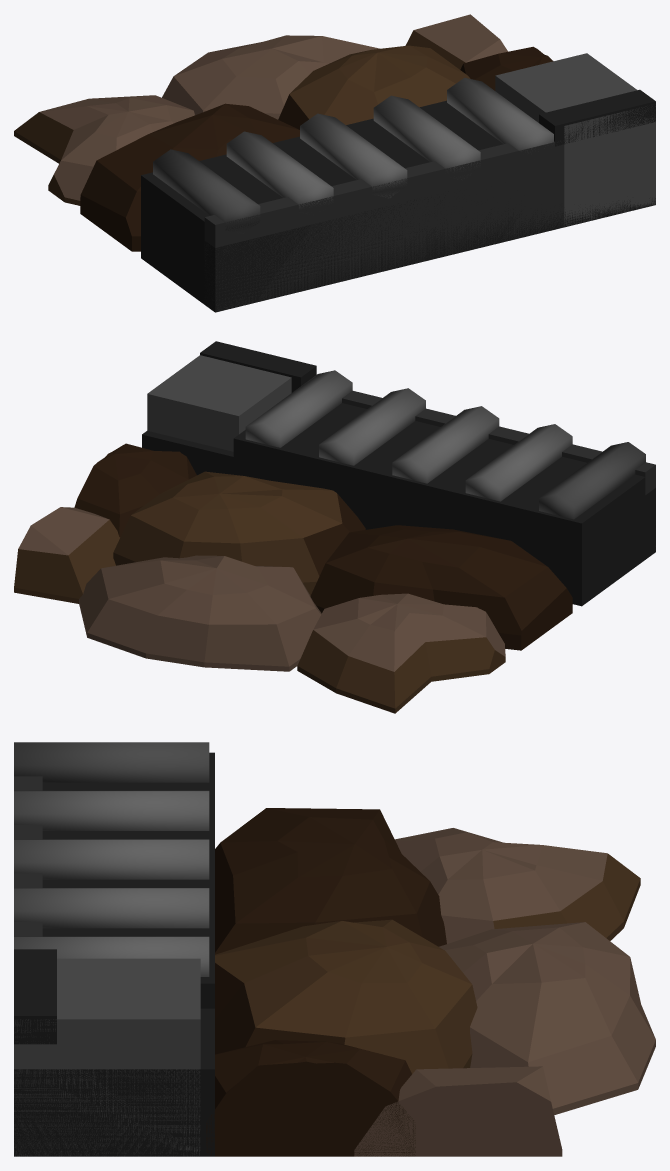
Rendered from newshr-159.glb.
3 renders of one model, top to bottom at view 1: azimuth 30°, elevation 25°; view 2: azimuth 150°, elevation 25°; view 3: azimuth 270°, elevation 25°, orthographic. The views are drawn at different scales.
Visible parts, largest first — view 1: newshr-159; view 2: newshr-159; view 3: newshr-159.
Boxes of the visible parts, x1=… form: newshr-159: x1=14, y1=14, x2=655, y2=312; newshr-159: x1=14, y1=341, x2=655, y2=713; newshr-159: x1=14, y1=742, x2=655, y2=1156.
Bounding box in the file's own units: 2 × 0.45 × 1.86.
